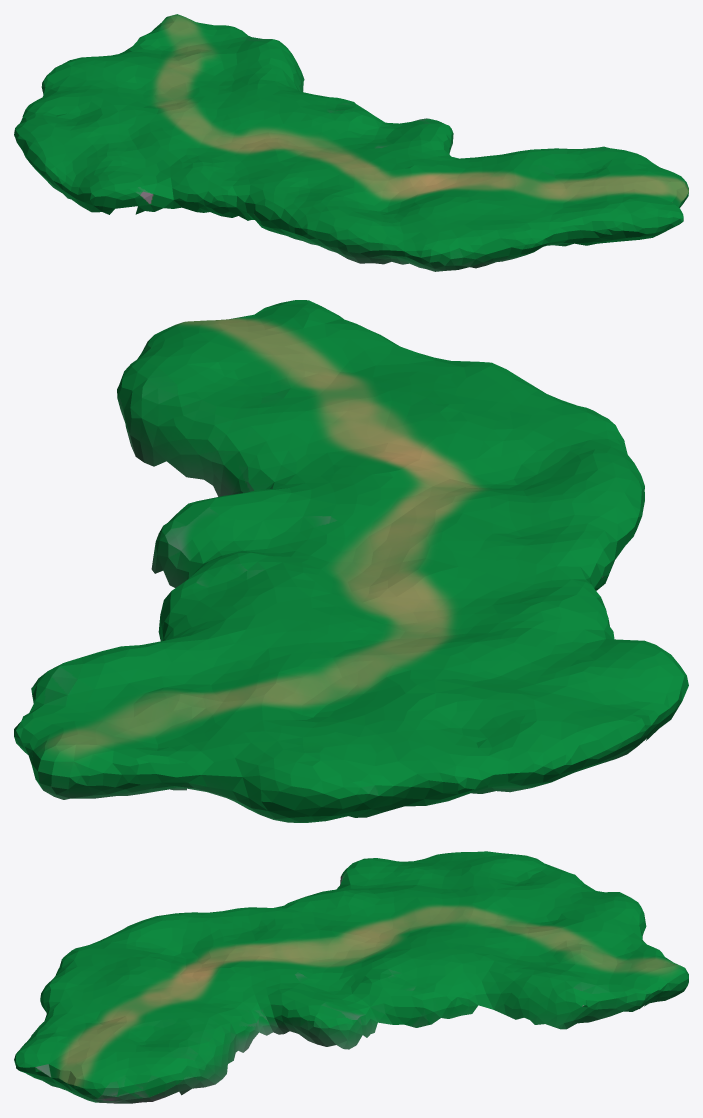
Rendered from Map1_Island2_Collision.fbx.
3 views of the same model, one above another, from view 1: azimuth 30°, elevation 25°; view 2: azimuth 150°, elevation 25°; view 3: azimuth 270°, elevation 25° (orthographic). The views are drawn at different scales.
Parts seen in each view (by area): view 1: Map1_Island2_Collision; view 2: Map1_Island2_Collision; view 3: Map1_Island2_Collision.
Part boxes in pixels (x1,y1,x2,y2): Map1_Island2_Collision: (14,14,688,271); Map1_Island2_Collision: (14,300,688,822); Map1_Island2_Collision: (14,851,688,1103).
Bounding box in the file's own units: 543 × 42.39 × 663.
